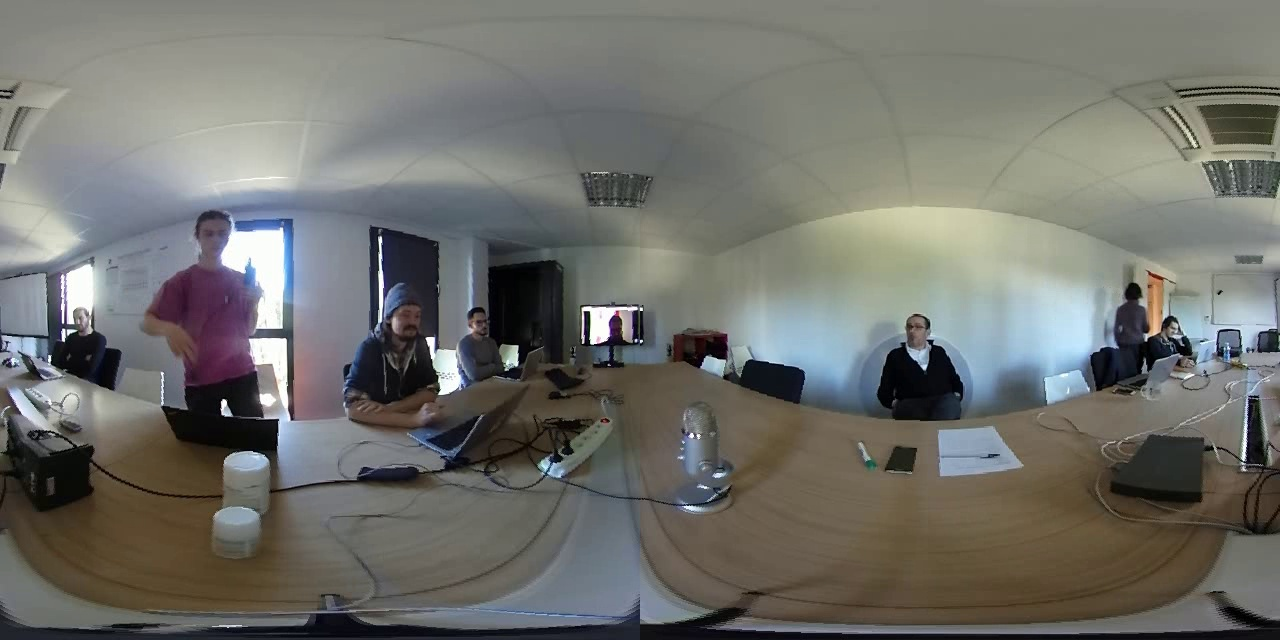person: (138, 182, 279, 392), (338, 264, 444, 424), (865, 306, 976, 418), (449, 294, 513, 380), (50, 295, 113, 380), (1111, 270, 1149, 364), (579, 304, 640, 347), (1150, 307, 1194, 359)
